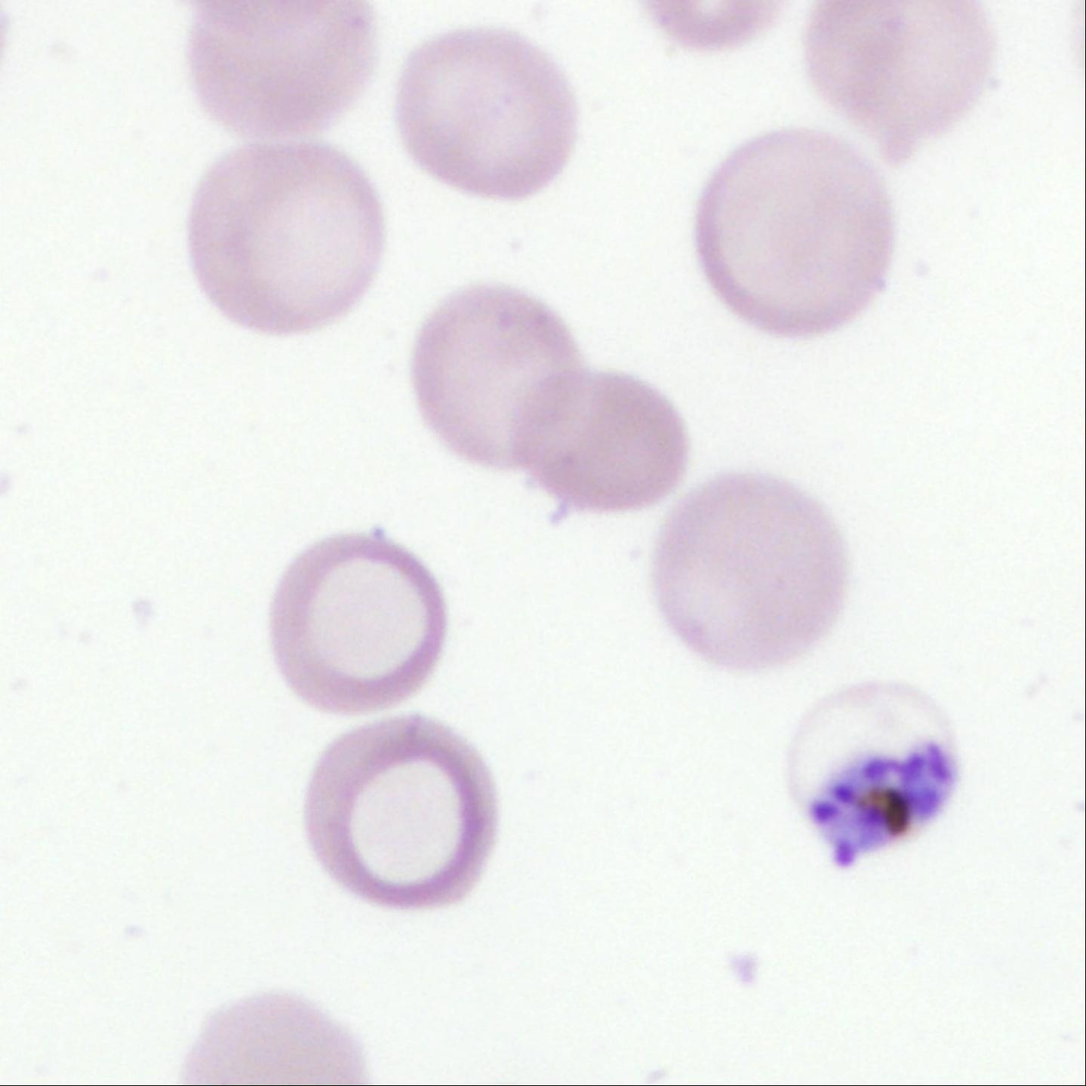Infected: (775, 681, 979, 869)
Uninfected: (186, 132, 379, 338), (699, 127, 887, 338), (649, 469, 847, 669), (301, 713, 496, 914), (267, 527, 444, 726), (408, 283, 584, 474), (397, 26, 584, 197), (800, 0, 1001, 155), (186, 6, 379, 142), (518, 366, 691, 514)
